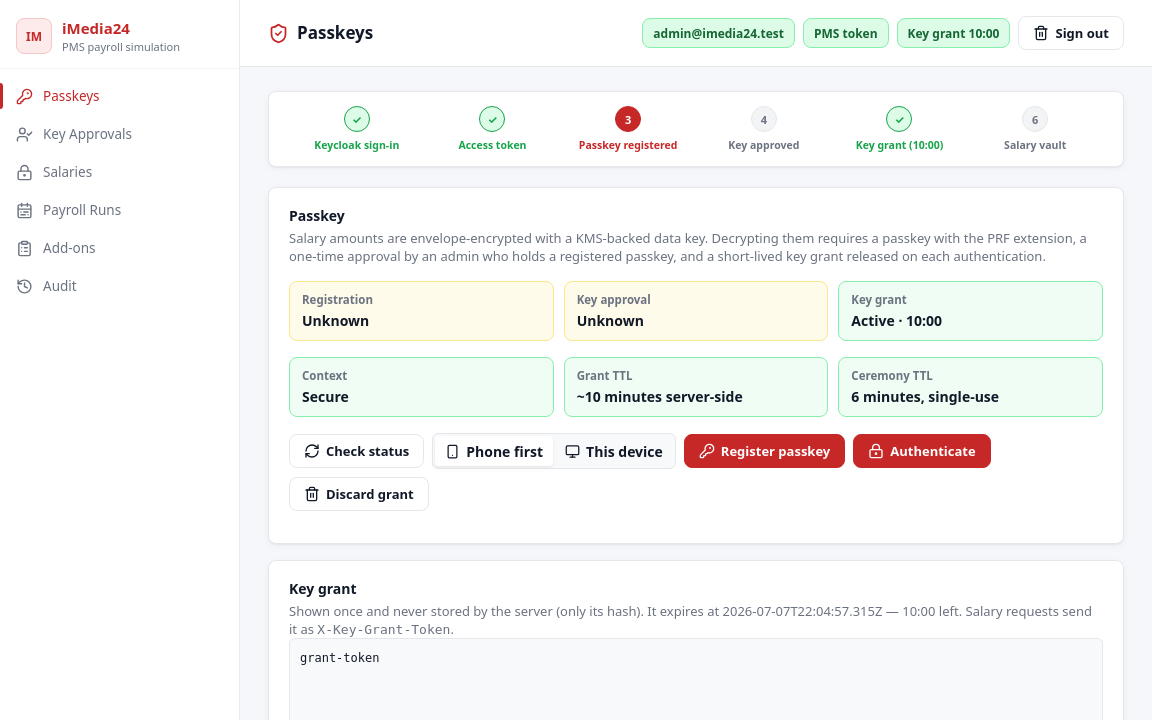
PMS real API app › creates a salary record and refreshes history
The width and height of the screenshot is (1152, 720).
Expected: the text "PMS token" is shown, [803,18,888,48]
Click the button "Salaries" at (120, 172), box [0,153,239,191]
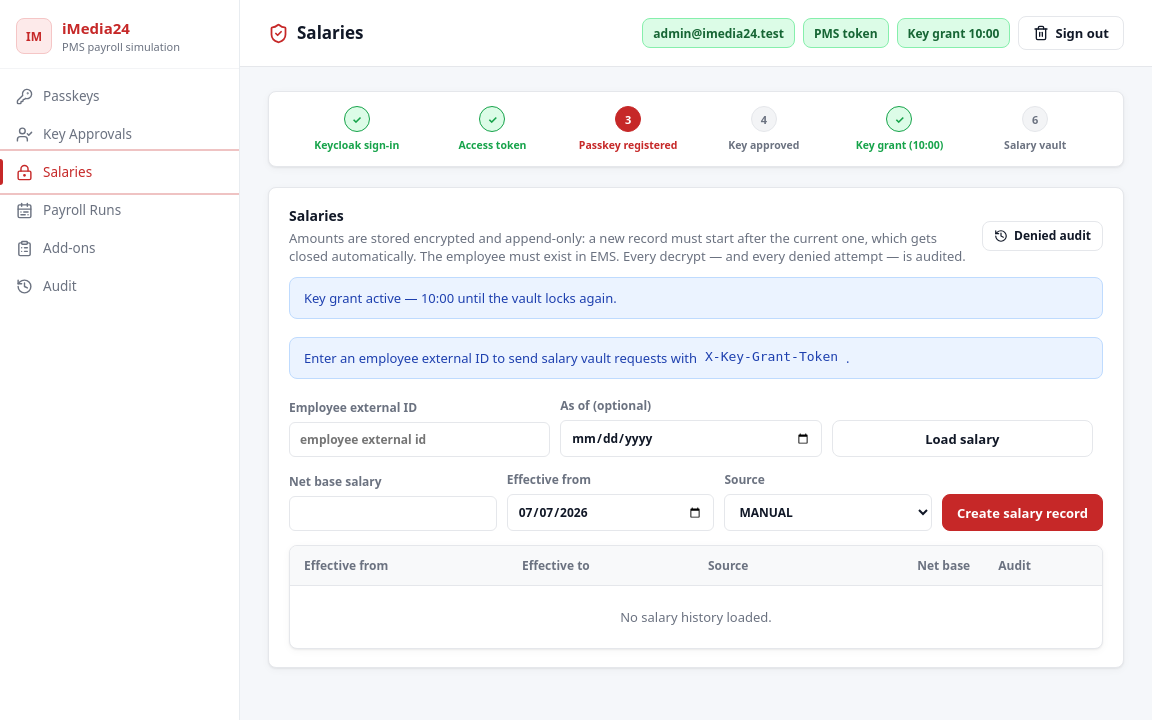
Type "emp-001" into the field labelled "Employee external ID" at (420, 440), box [289,422,550,457]
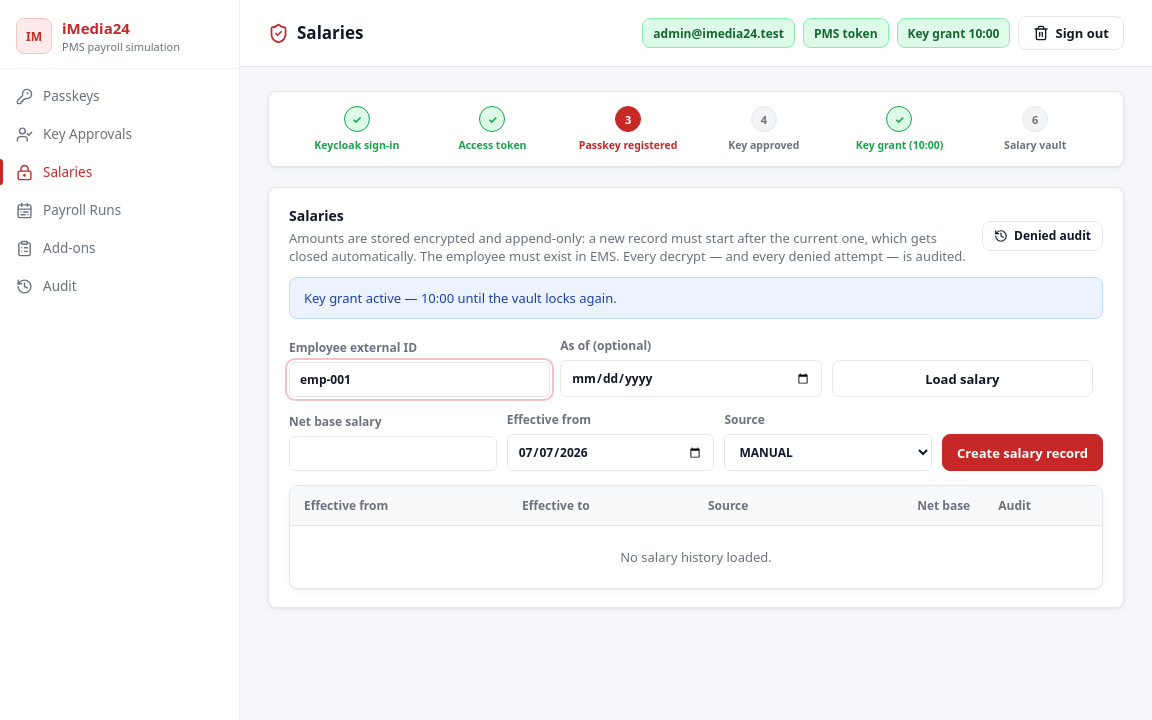
Type "82000" into the number field labelled "Net base salary" at (393, 454), box [289,436,497,471]
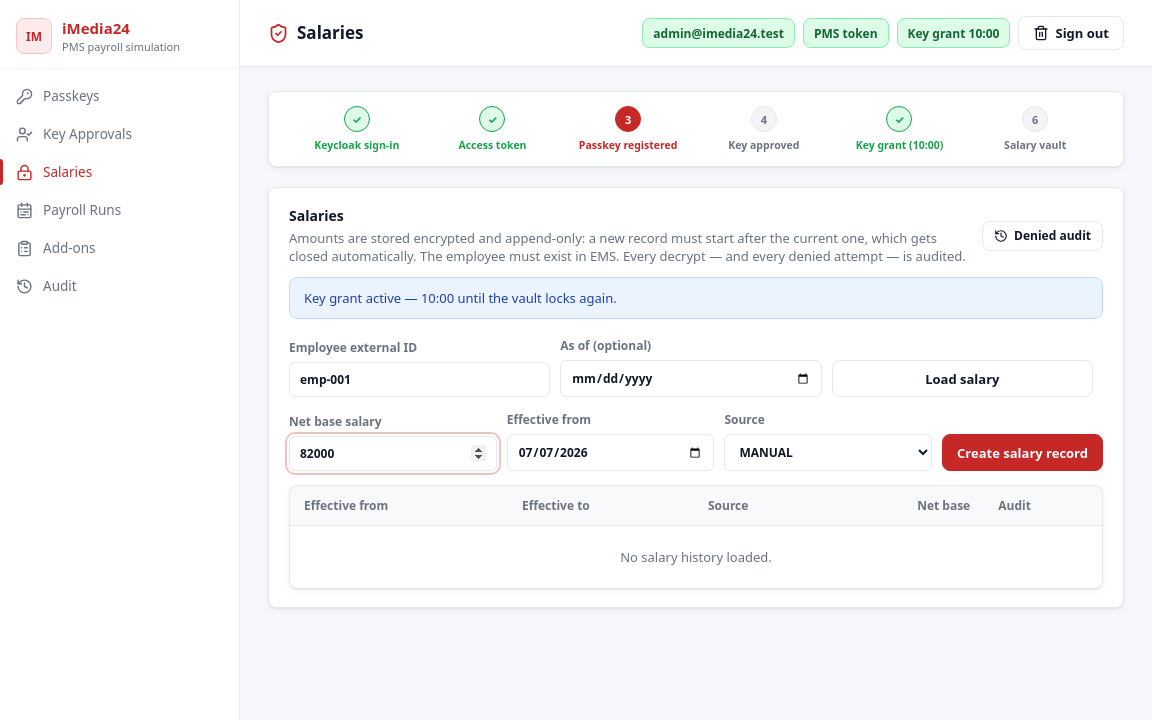
Type "2026-07-02" into the date field labelled "Effective from" at (611, 452), box [507,434,714,471]
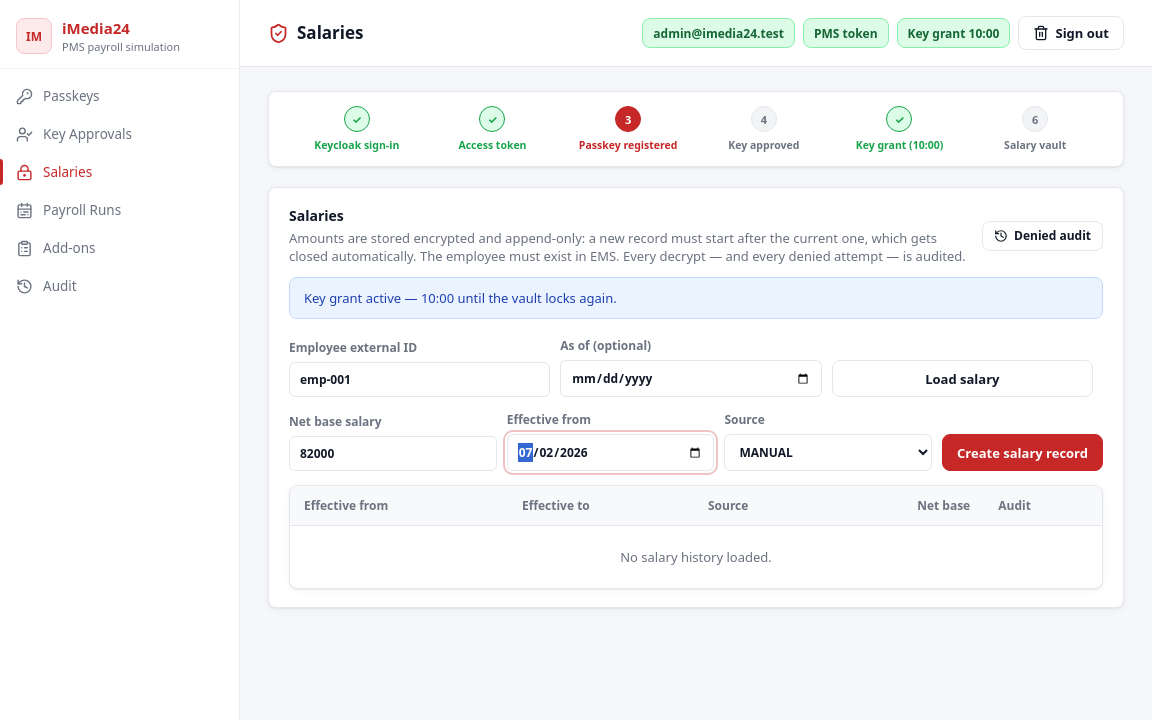
Click the button "Create salary record" at (1023, 452), box [942,434,1103,471]
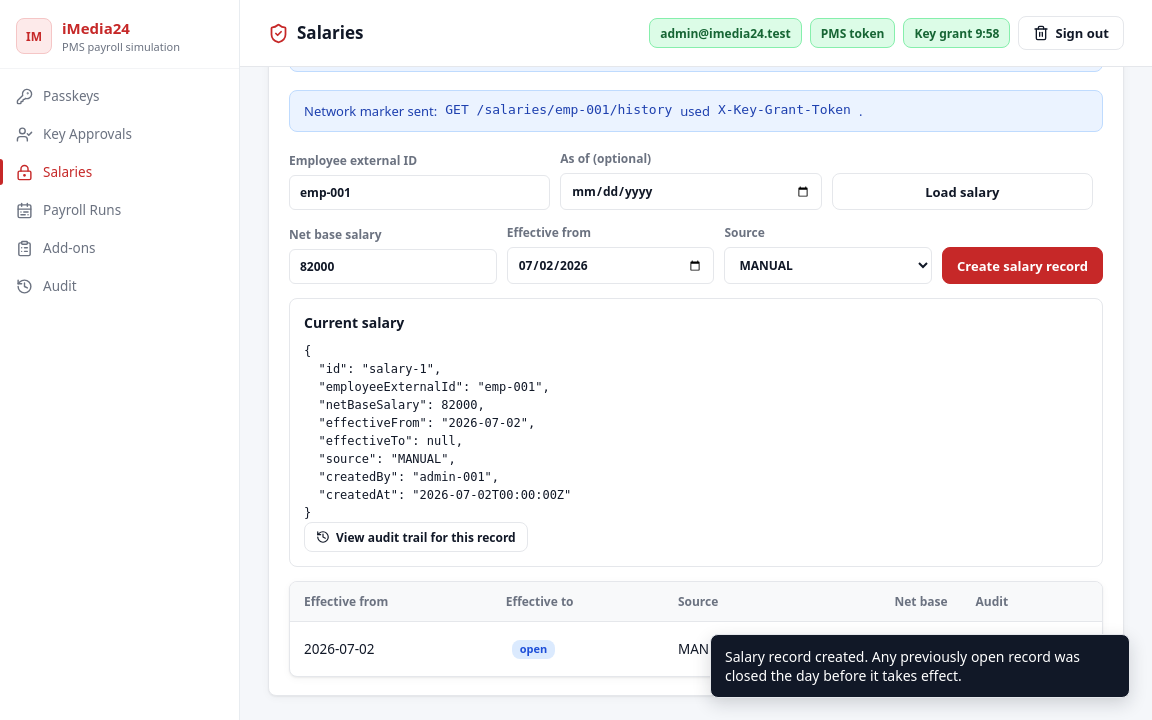
Expected: the text "\"id\": \"salary-1\"" is shown, [304,344,571,520]
